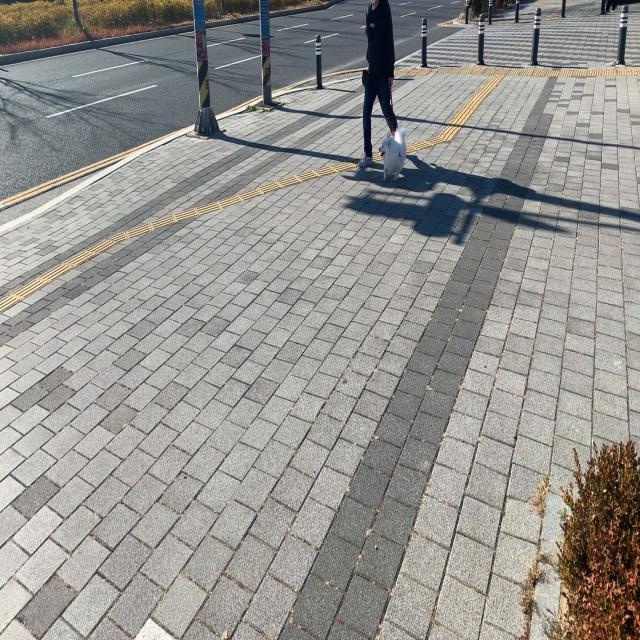Leashed_Dog: (378, 61, 406, 182)
